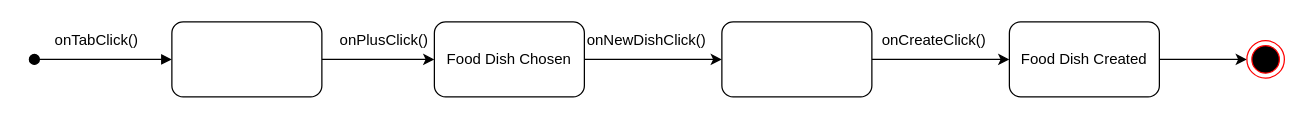
Image size: 1306x119. Some labels were removed from this diagram. Each missing label, with the box of its shape:
Empty Food Dish Options: (171, 21, 322, 97)
Food Credentials Entered: (721, 21, 872, 97)
